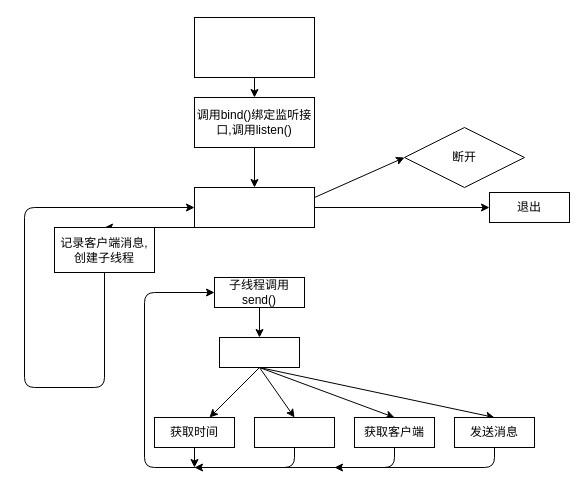
Some shapes in this 587 by 493 pixel diagram are drawn without their labels. The centre of each missing label's shape, as x and y in pixels:
accept(): point 254,207
receive(): point 259,352
获取名字: point 294,432
运行初始化, 调用socket(),申请句柄: point 254,47
